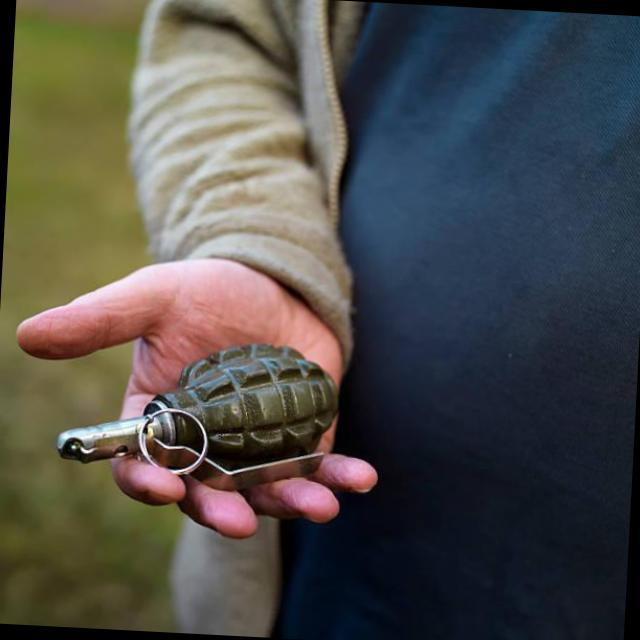grenade: (52, 335, 357, 479)
